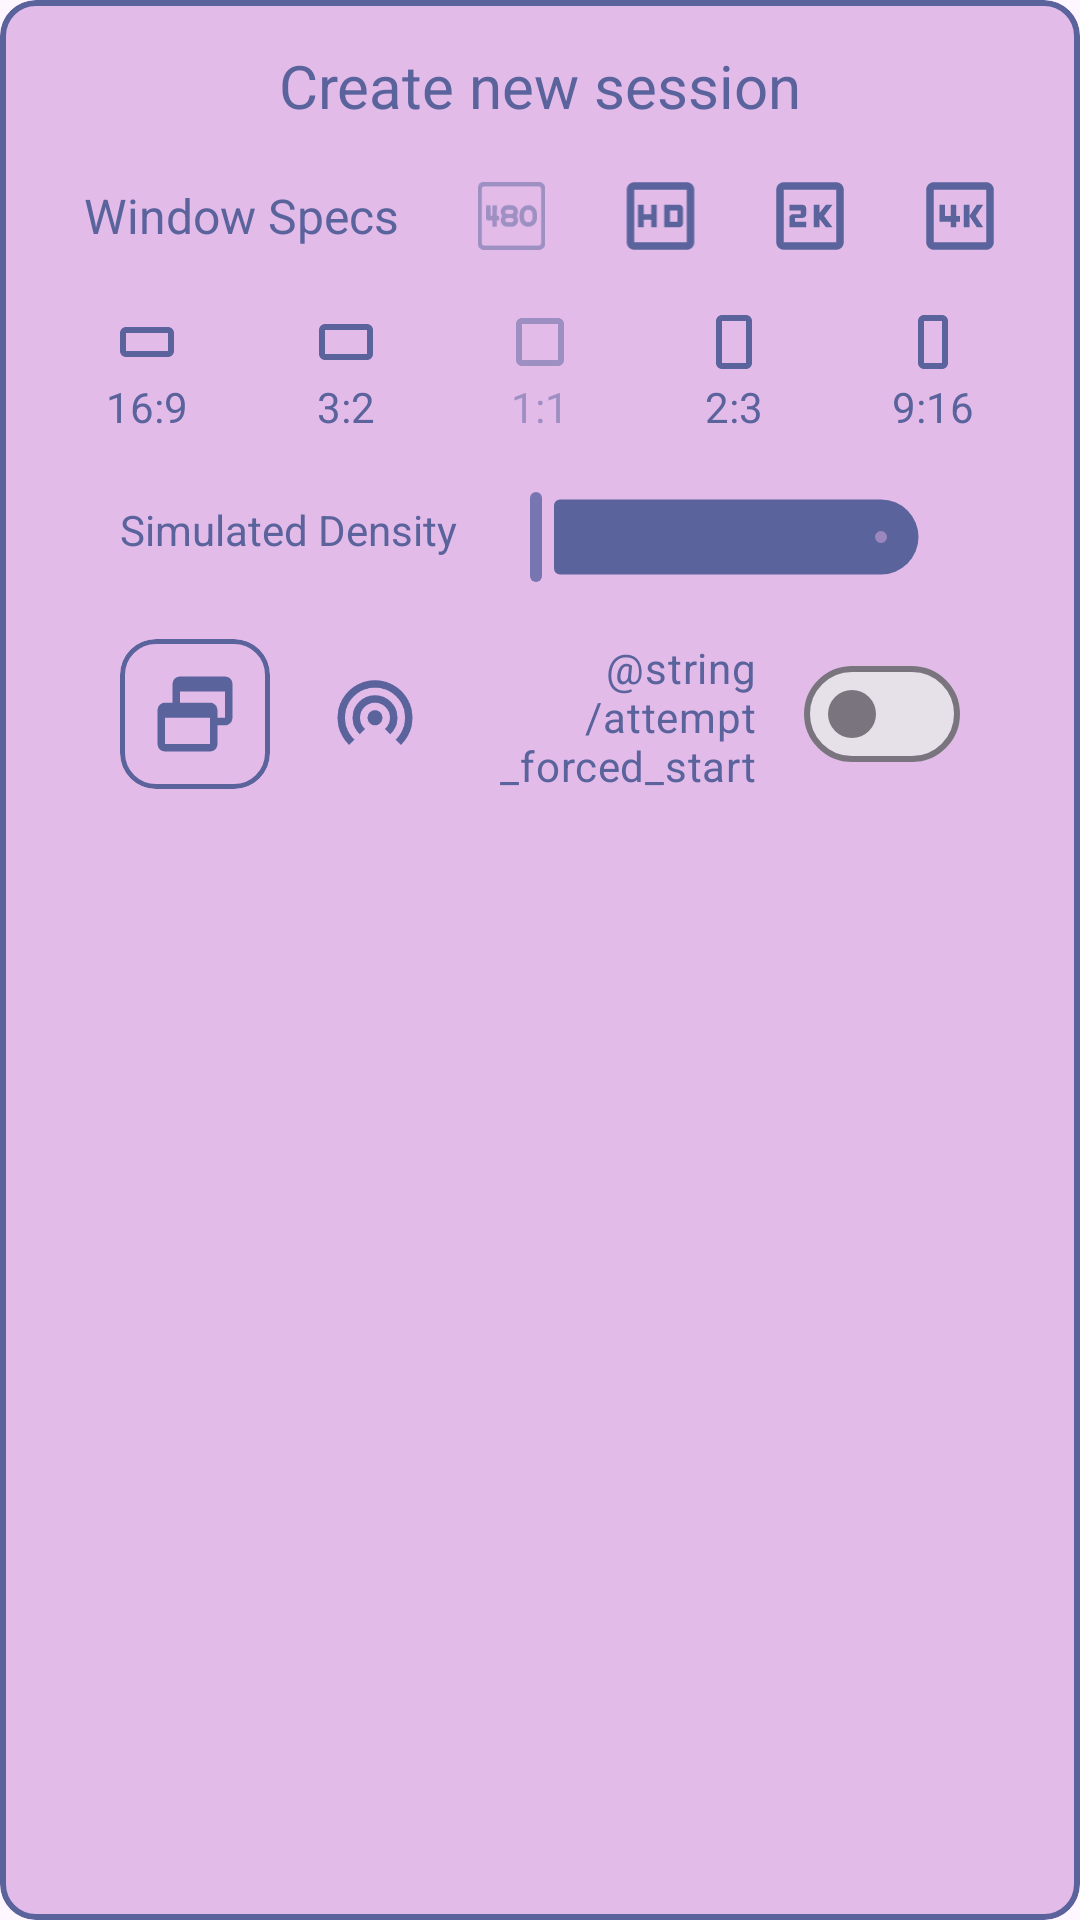

Where icons sit on this 1080 x 1920 app screen, as region(x1, y1, x2, y2):
crop square: region(516, 318, 564, 366)
